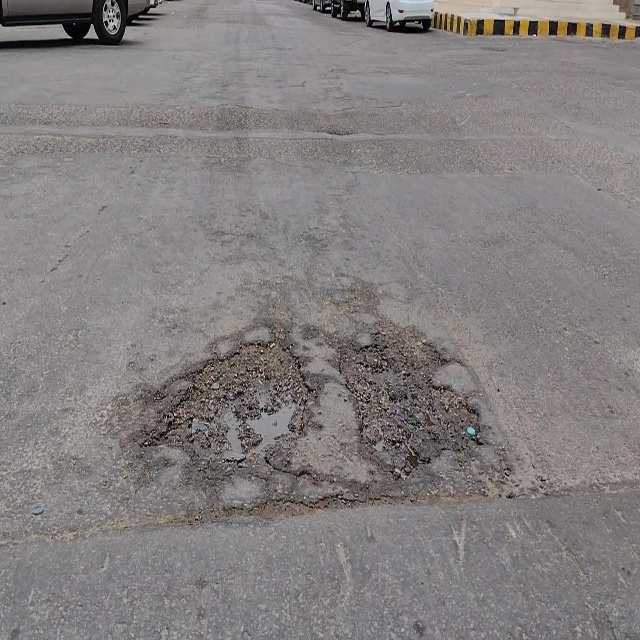pothole: (336, 314, 477, 479), (158, 340, 307, 468)
